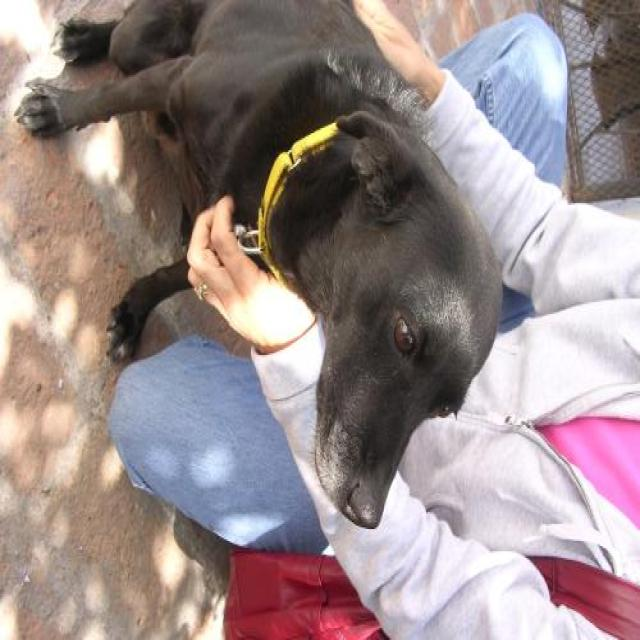Dogs: (13, 0, 504, 529)
